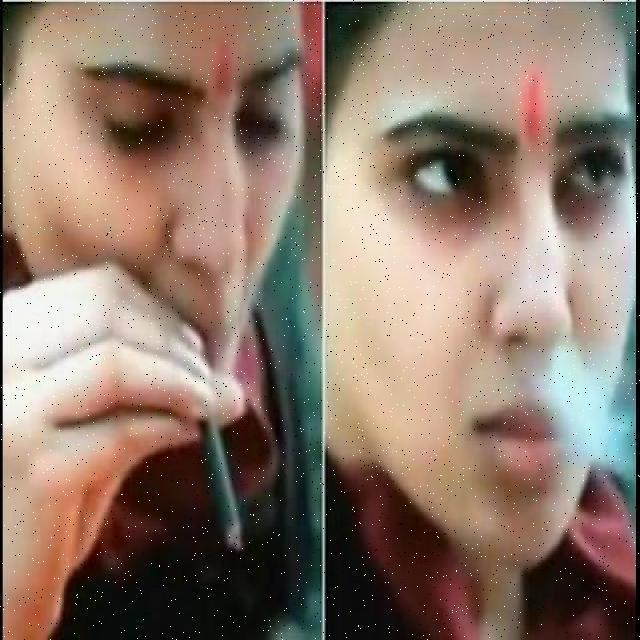smoke: (543, 355, 629, 465)
